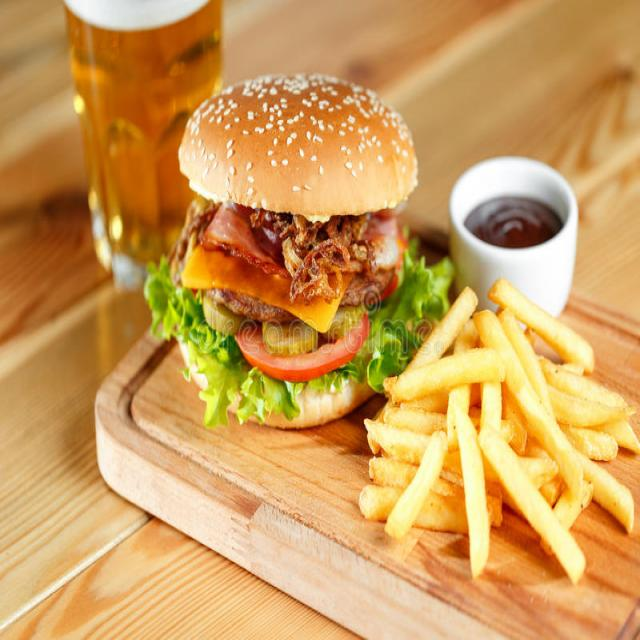burger: (170, 71, 419, 429)
frenchfries: (361, 280, 638, 586)
